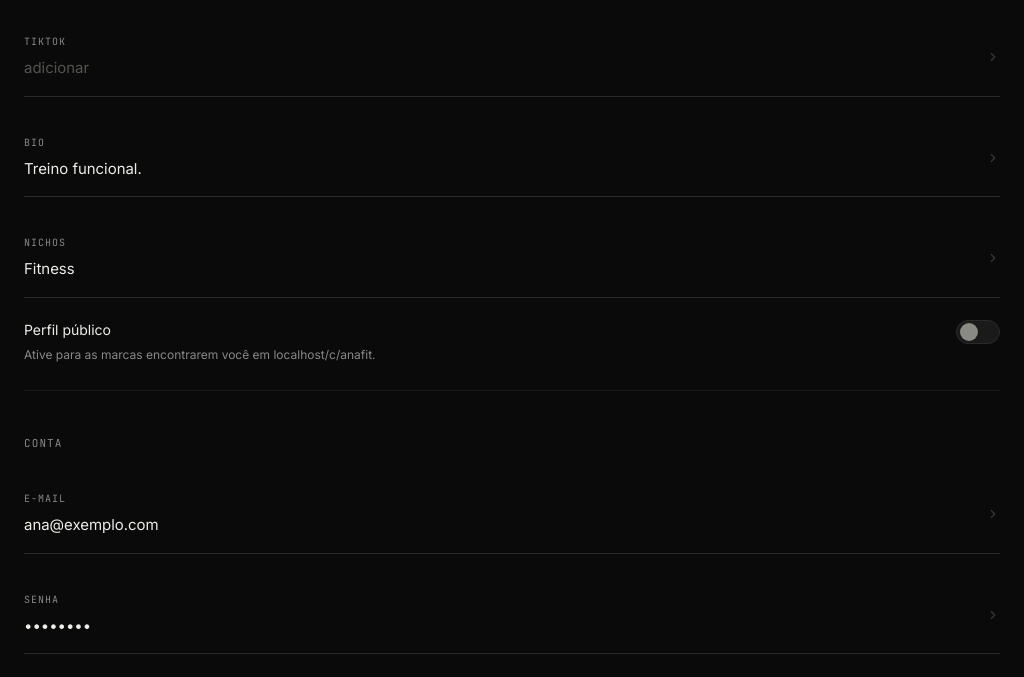
Creator ProfilePage › o toggle de perfil público reflete o estado e habilita salvar ao alternar
(page scrolled)
Click the switch named "tornar meu perfil público" at (978,332), box x1=956 y1=320 x2=1000 y2=344
(page scrolled)
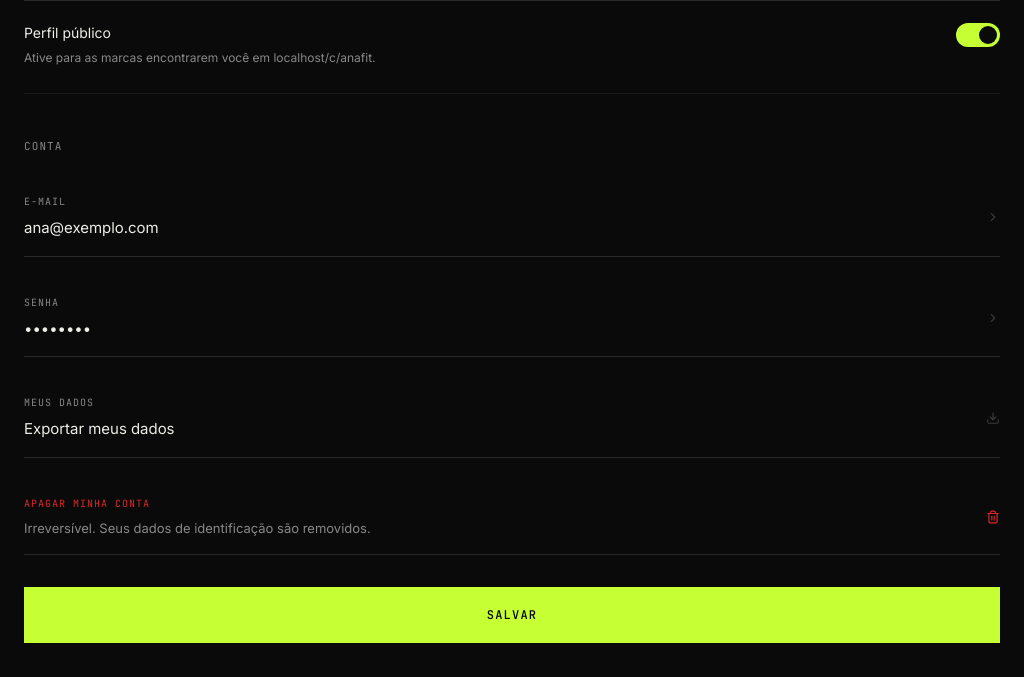
Expected: the button "Salvar" is enabled, x1=24 y1=587 x2=1000 y2=643
